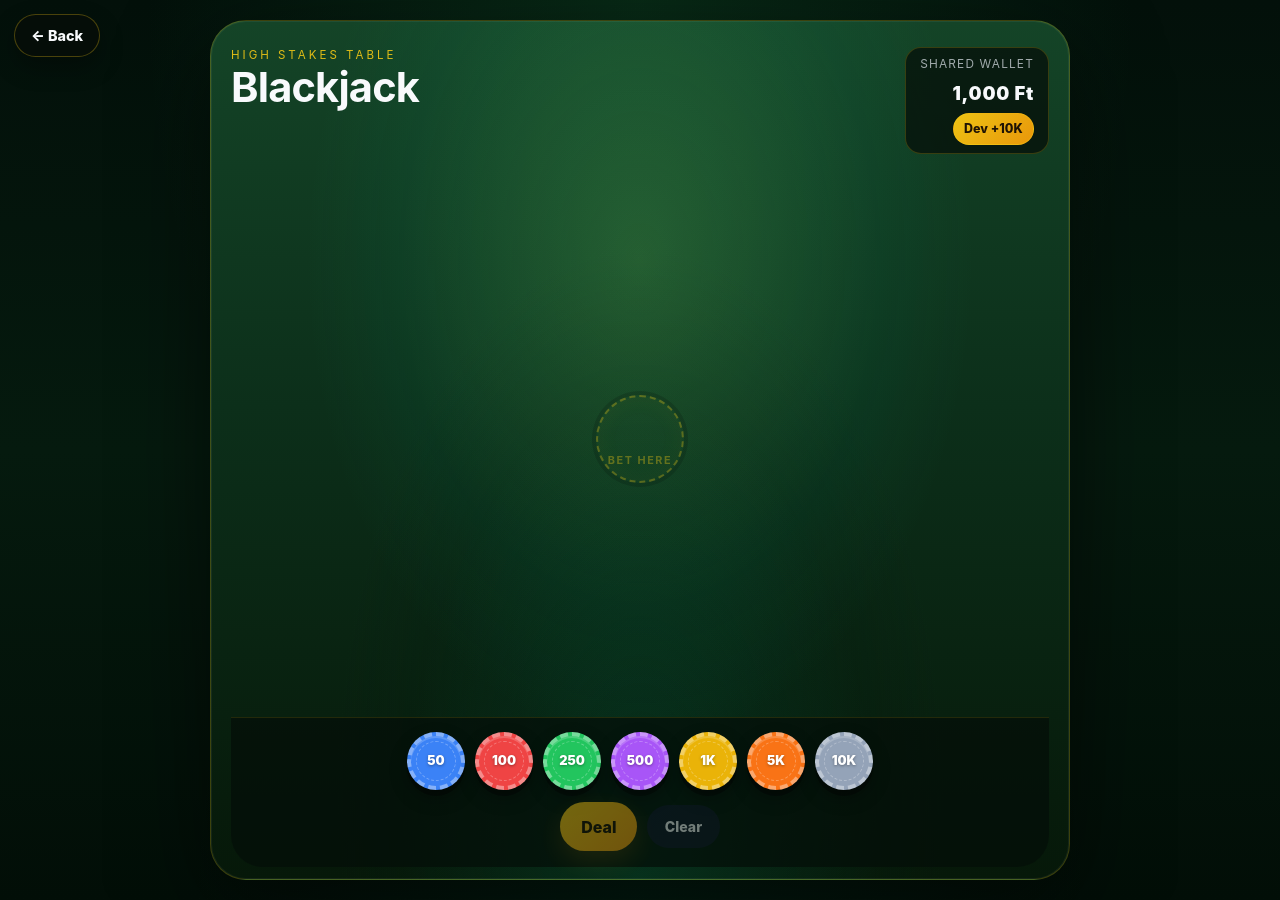
Test case: blackjack game shell › keeps the double-down card blind until the dealer finishes and then settles
Click the button "500". click: (640, 761)
box: top-left (611, 732), bottom-right (669, 790)
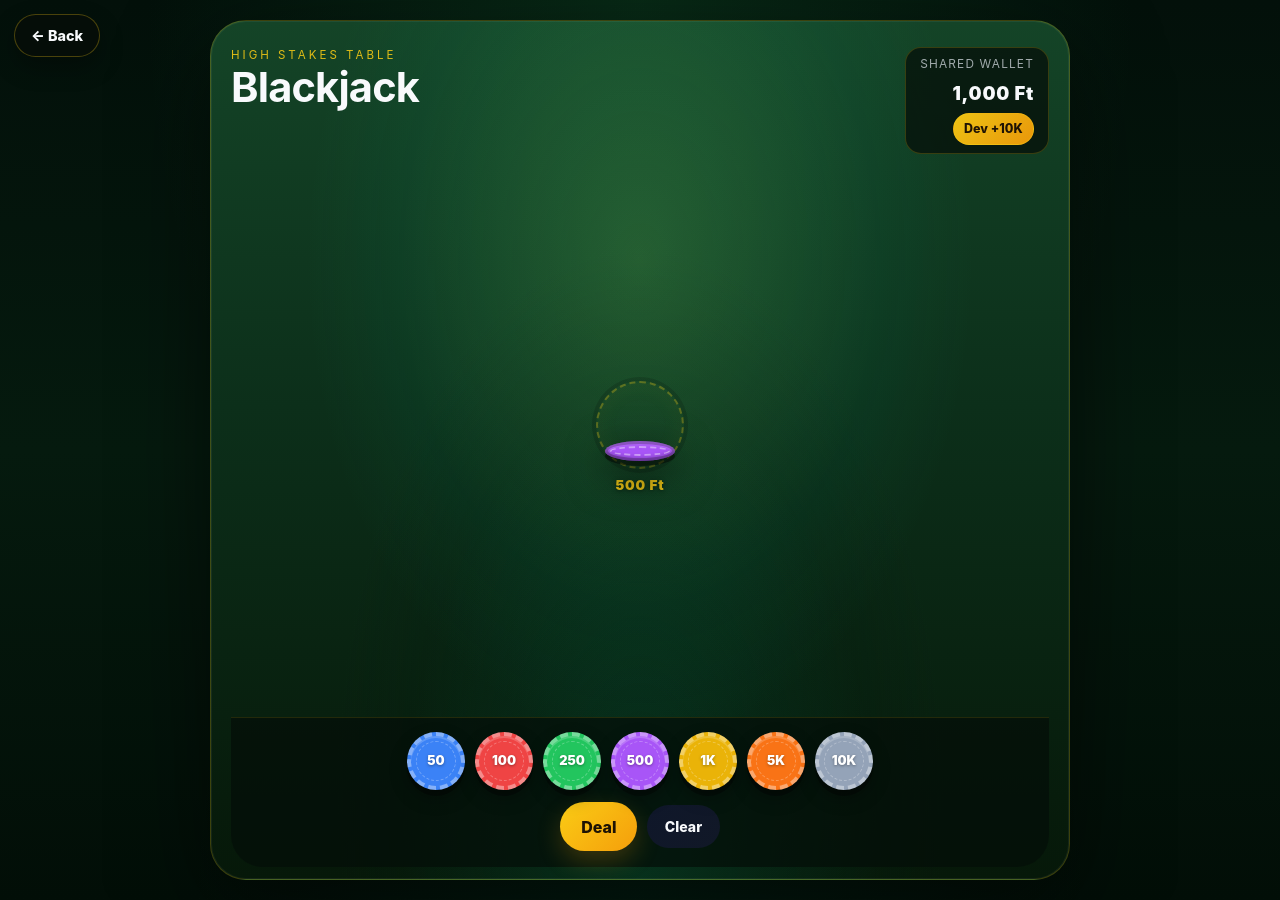
Click the button "Deal". click: (599, 827)
box: top-left (560, 802), bottom-right (637, 851)
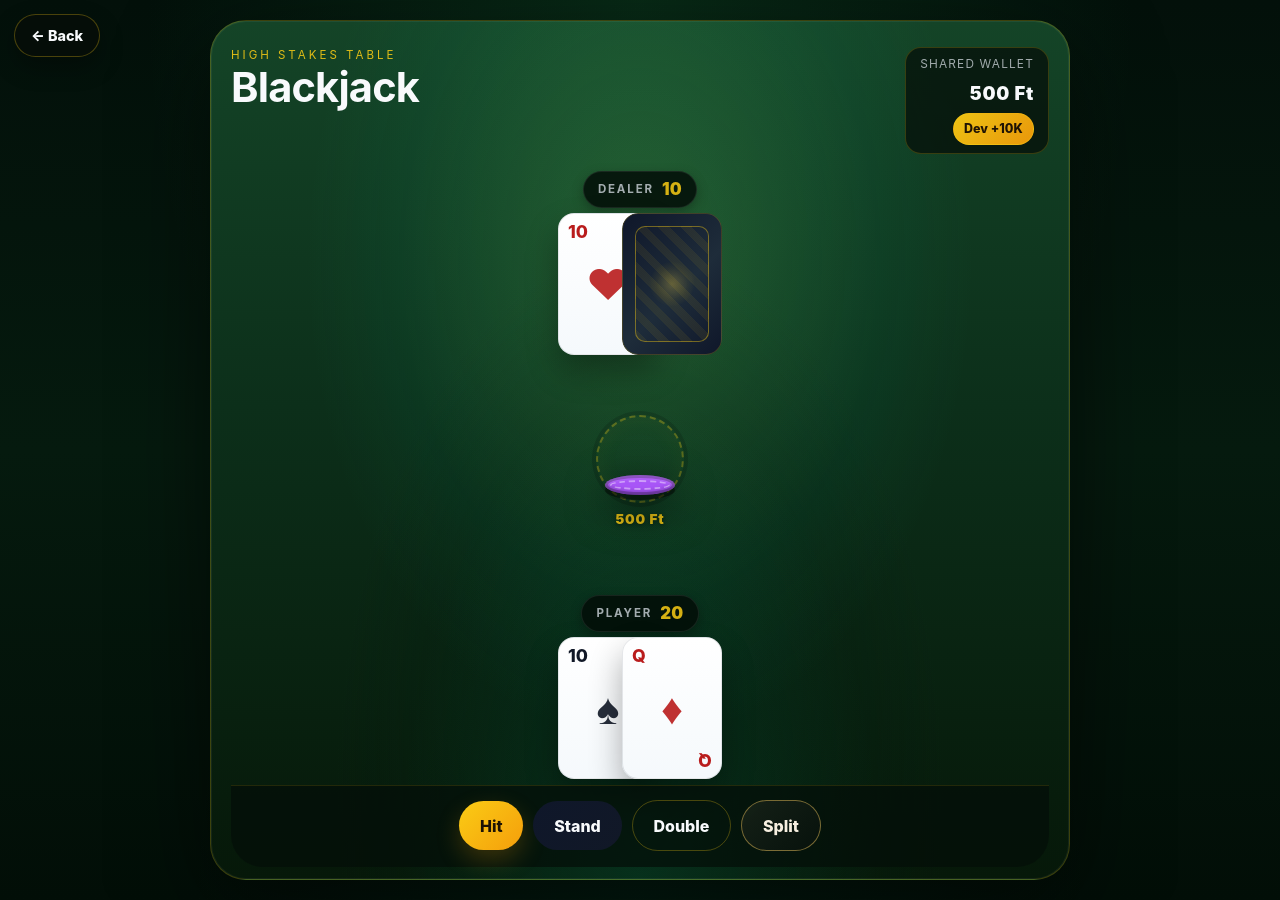
Click the button "Double". click: (681, 826)
box: top-left (632, 800), bottom-right (731, 851)
Wait 4000 ms
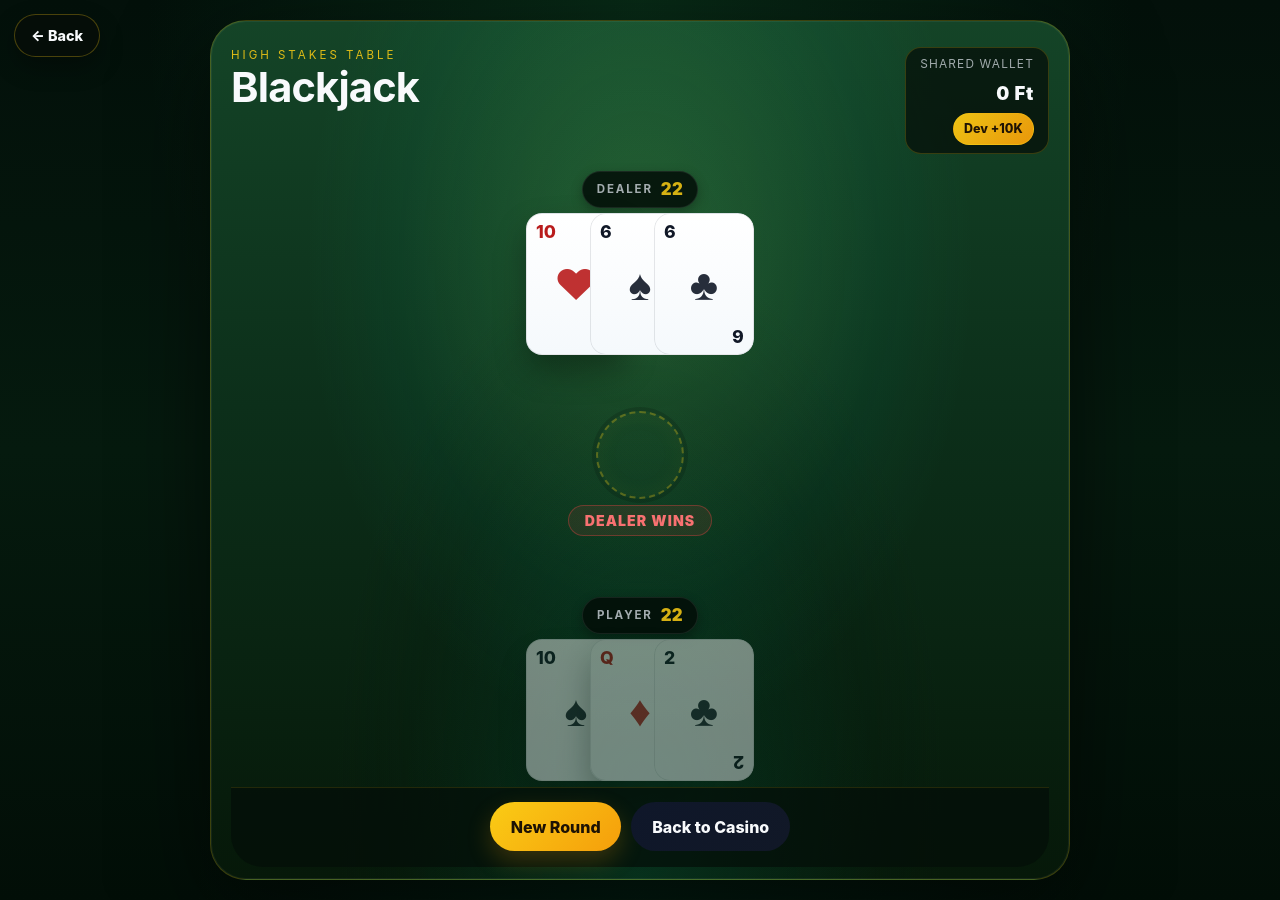
Expected: the text "0 Ft" is shown, top-left (996, 80), bottom-right (1034, 107)
Expected: the text "Dealer wins" is shown, top-left (568, 505), bottom-right (712, 536)
